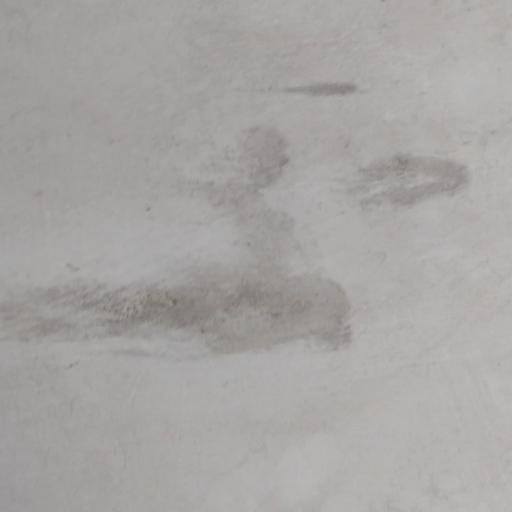stain: (0, 104, 387, 375), (324, 108, 495, 251), (264, 74, 376, 101)
